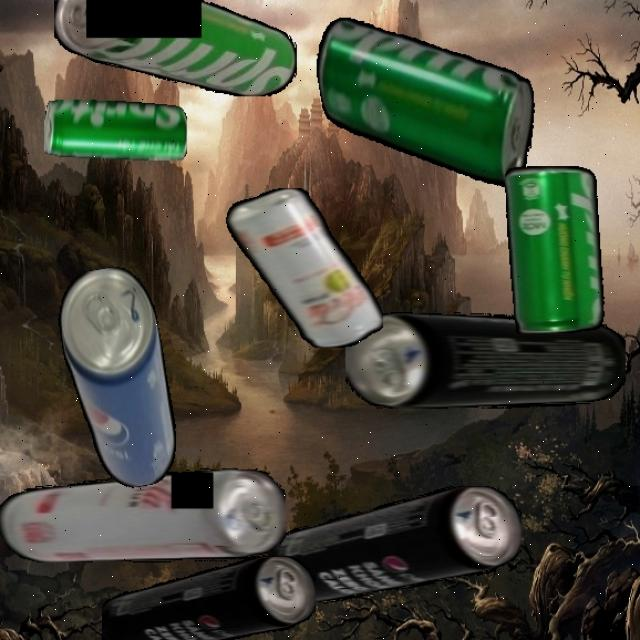debris: (309, 0, 548, 216), (51, 261, 185, 495), (267, 486, 521, 604), (346, 311, 626, 409), (0, 468, 286, 562), (225, 188, 383, 348), (54, 0, 296, 96), (100, 556, 316, 640), (505, 165, 604, 333), (43, 98, 187, 160)
